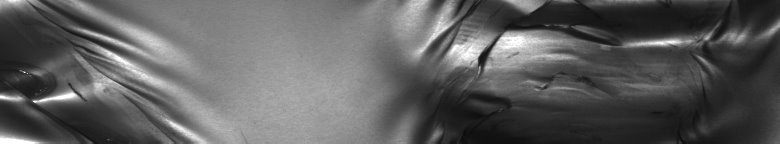ke: (4, 4, 187, 136)
